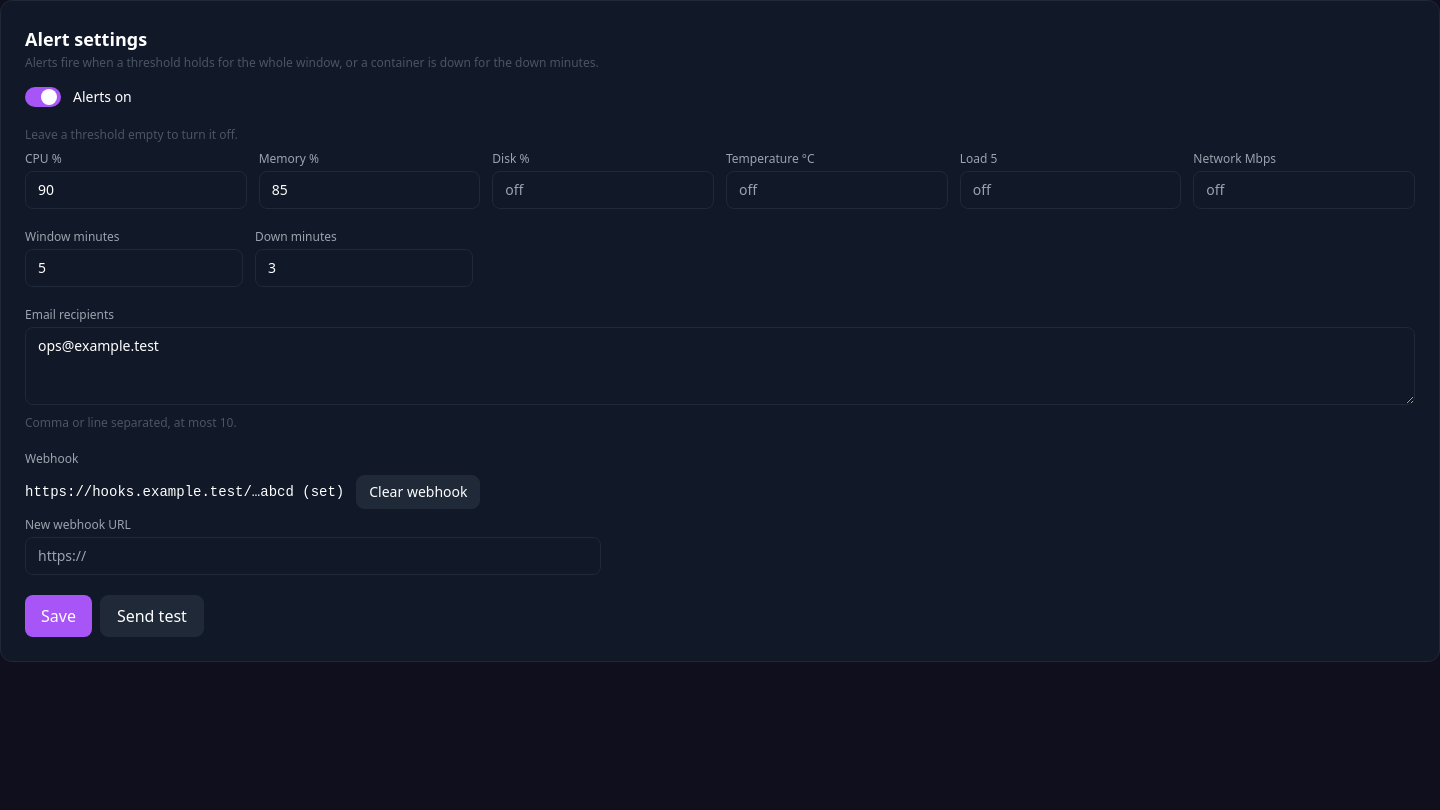
Test case: AlertSettingsCard › send test shows how each channel did
Click the button "Send test": (152, 616) top-left (100, 595), bottom-right (204, 637)
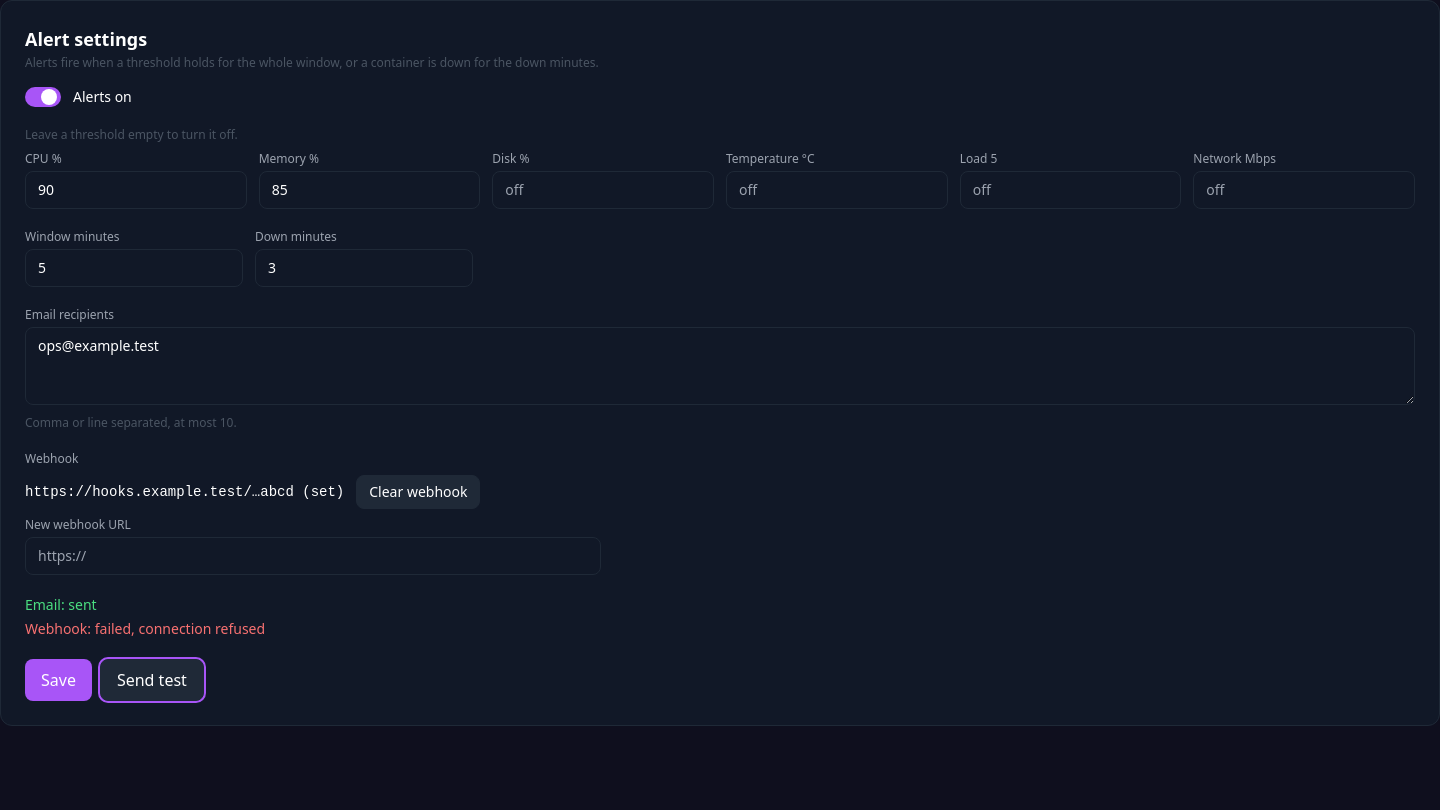
Check: the list item "Email: sent" is shown, box top-left (25, 595), bottom-right (97, 614)
Check: the list item "Webhook: failed, connection refused" is shown, box top-left (25, 619), bottom-right (265, 638)
